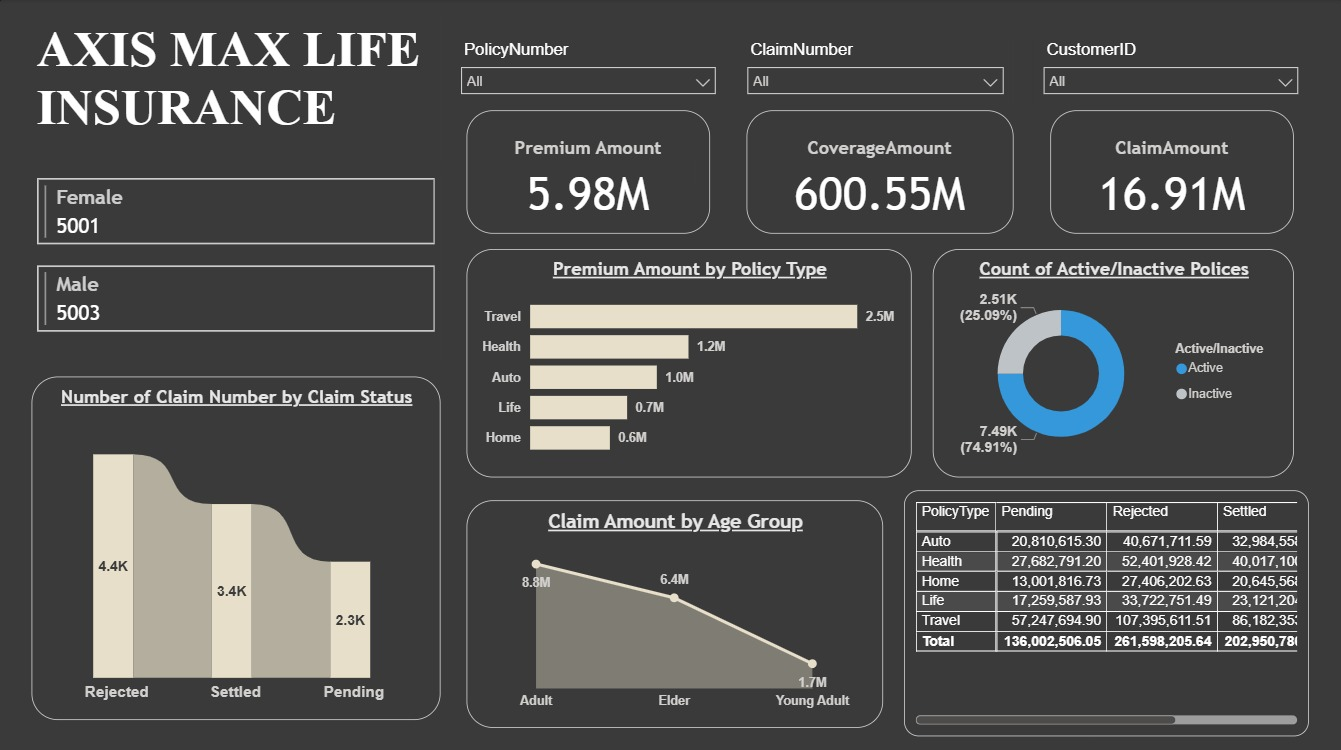

The dashboard page shown, as its layout file describes it:
{"tool":"powerbi","page":{"name":"Page 1","canvas":[1280,720],"ordinal":0},"visuals":[{"type":"slicer","fields":{"Values":["InsuranceData.PolicyNumber"]},"box":[429.8,34.5,263.1,70.2],"z":0},{"type":"slicer","fields":{"Values":["InsuranceData.ClaimNumber"]},"box":[702.4,34.5,264.3,70.2],"z":1000},{"type":"slicer","fields":{"Values":["InsuranceData.CustomerID"]},"box":[984.5,34.5,263.1,70.2],"z":2000},{"type":"textbox","box":[31,15.5,389.3,138.1],"z":3000},{"type":"cardVisual","fields":{"Data":["Sum(InsuranceData.PremiumAmount)"]},"box":[445.2,106,232.1,117.9],"z":4000},{"type":"cardVisual","fields":{"Data":["Sum(InsuranceData.CoverageAmount)"]},"box":[711.9,106,254.8,117.9],"z":5000},{"type":"cardVisual","fields":{"Data":["Sum(InsuranceData.ClaimAmount)"]},"box":[1001.2,106,232.1,117.9],"z":6000},{"type":"multiRowCard","fields":{"Values":["InsuranceData.Gender","CountNonNull(InsuranceData.Gender)"]},"box":[31,165.5,389.3,175],"z":7000},{"type":"ribbonChart","title":"Number of Claim Number by Claim Status","fields":{"Category":["InsuranceData.ClaimStatus"],"Y":["CountNonNull(InsuranceData.ClaimNumber)"]},"box":[31,359.5,389.3,327.4],"z":8000},{"type":"barChart","title":"Premium Amount by Policy Type","fields":{"Category":["InsuranceData.PolicyType"],"Y":["Sum(InsuranceData.PremiumAmount)"]},"box":[445.2,238.1,423.8,217.9],"z":8001},{"type":"lineChart","title":"Claim Amount by Age Group","fields":{"Category":["InsuranceData.Age Group"],"Y":["Sum(InsuranceData.ClaimAmount)"]},"box":[445.2,477.4,396.4,216.7],"z":8002},{"type":"donutChart","title":"Count of Active/Inactive Polices","fields":{"Category":["InsuranceData.Active/Inactive"],"Y":["CountNonNull(InsuranceData.Active/Inactive)"]},"box":[889.3,238.1,344,217.9],"z":8003},{"type":"pivotTable","fields":{"Values":["Sum(InsuranceData.CoverageAmount)"],"Rows":["InsuranceData.PolicyType"],"Columns":["InsuranceData.ClaimStatus"]},"box":[861.9,467.9,385.7,234.5],"z":8004}]}

Visuals, with their boxes in screenshot pixels (x1, y1, x2, y2), scaled from the page's 1280x720 canvas onto the 1341x750 screenshot:
slicer - InsuranceData.PolicyNumber: locate(450, 36, 726, 109)
slicer - InsuranceData.ClaimNumber: locate(736, 36, 1013, 109)
slicer - InsuranceData.CustomerID: locate(1031, 36, 1307, 109)
textbox: locate(32, 16, 440, 160)
cardVisual - Sum(InsuranceData.PremiumAmount): locate(466, 110, 710, 233)
cardVisual - Sum(InsuranceData.CoverageAmount): locate(746, 110, 1013, 233)
cardVisual - Sum(InsuranceData.ClaimAmount): locate(1049, 110, 1292, 233)
multiRowCard - InsuranceData.Gender x CountNonNull(InsuranceData.Gender): locate(32, 172, 440, 355)
"Number of Claim Number by Claim Status" ribbonChart: locate(32, 374, 440, 716)
"Premium Amount by Policy Type" barChart: locate(466, 248, 910, 475)
"Claim Amount by Age Group" lineChart: locate(466, 497, 882, 723)
"Count of Active/Inactive Polices" donutChart: locate(932, 248, 1292, 475)
pivotTable - Sum(InsuranceData.CoverageAmount) x InsuranceData.PolicyType: locate(903, 487, 1307, 732)
